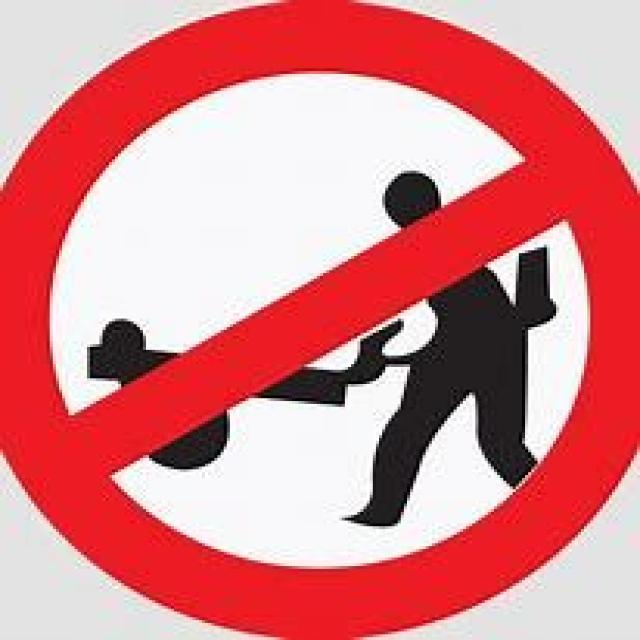railway_crossing: (0, 3, 637, 637)
